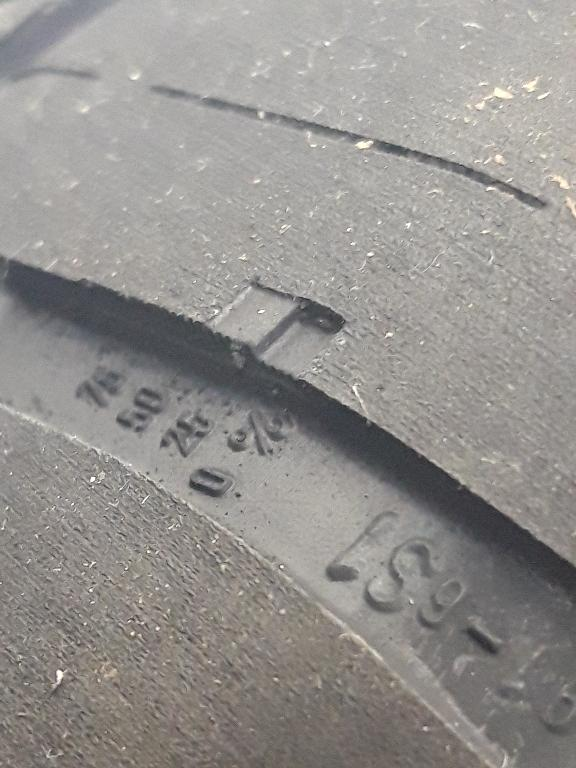temoin:25: (184, 268, 372, 420)
